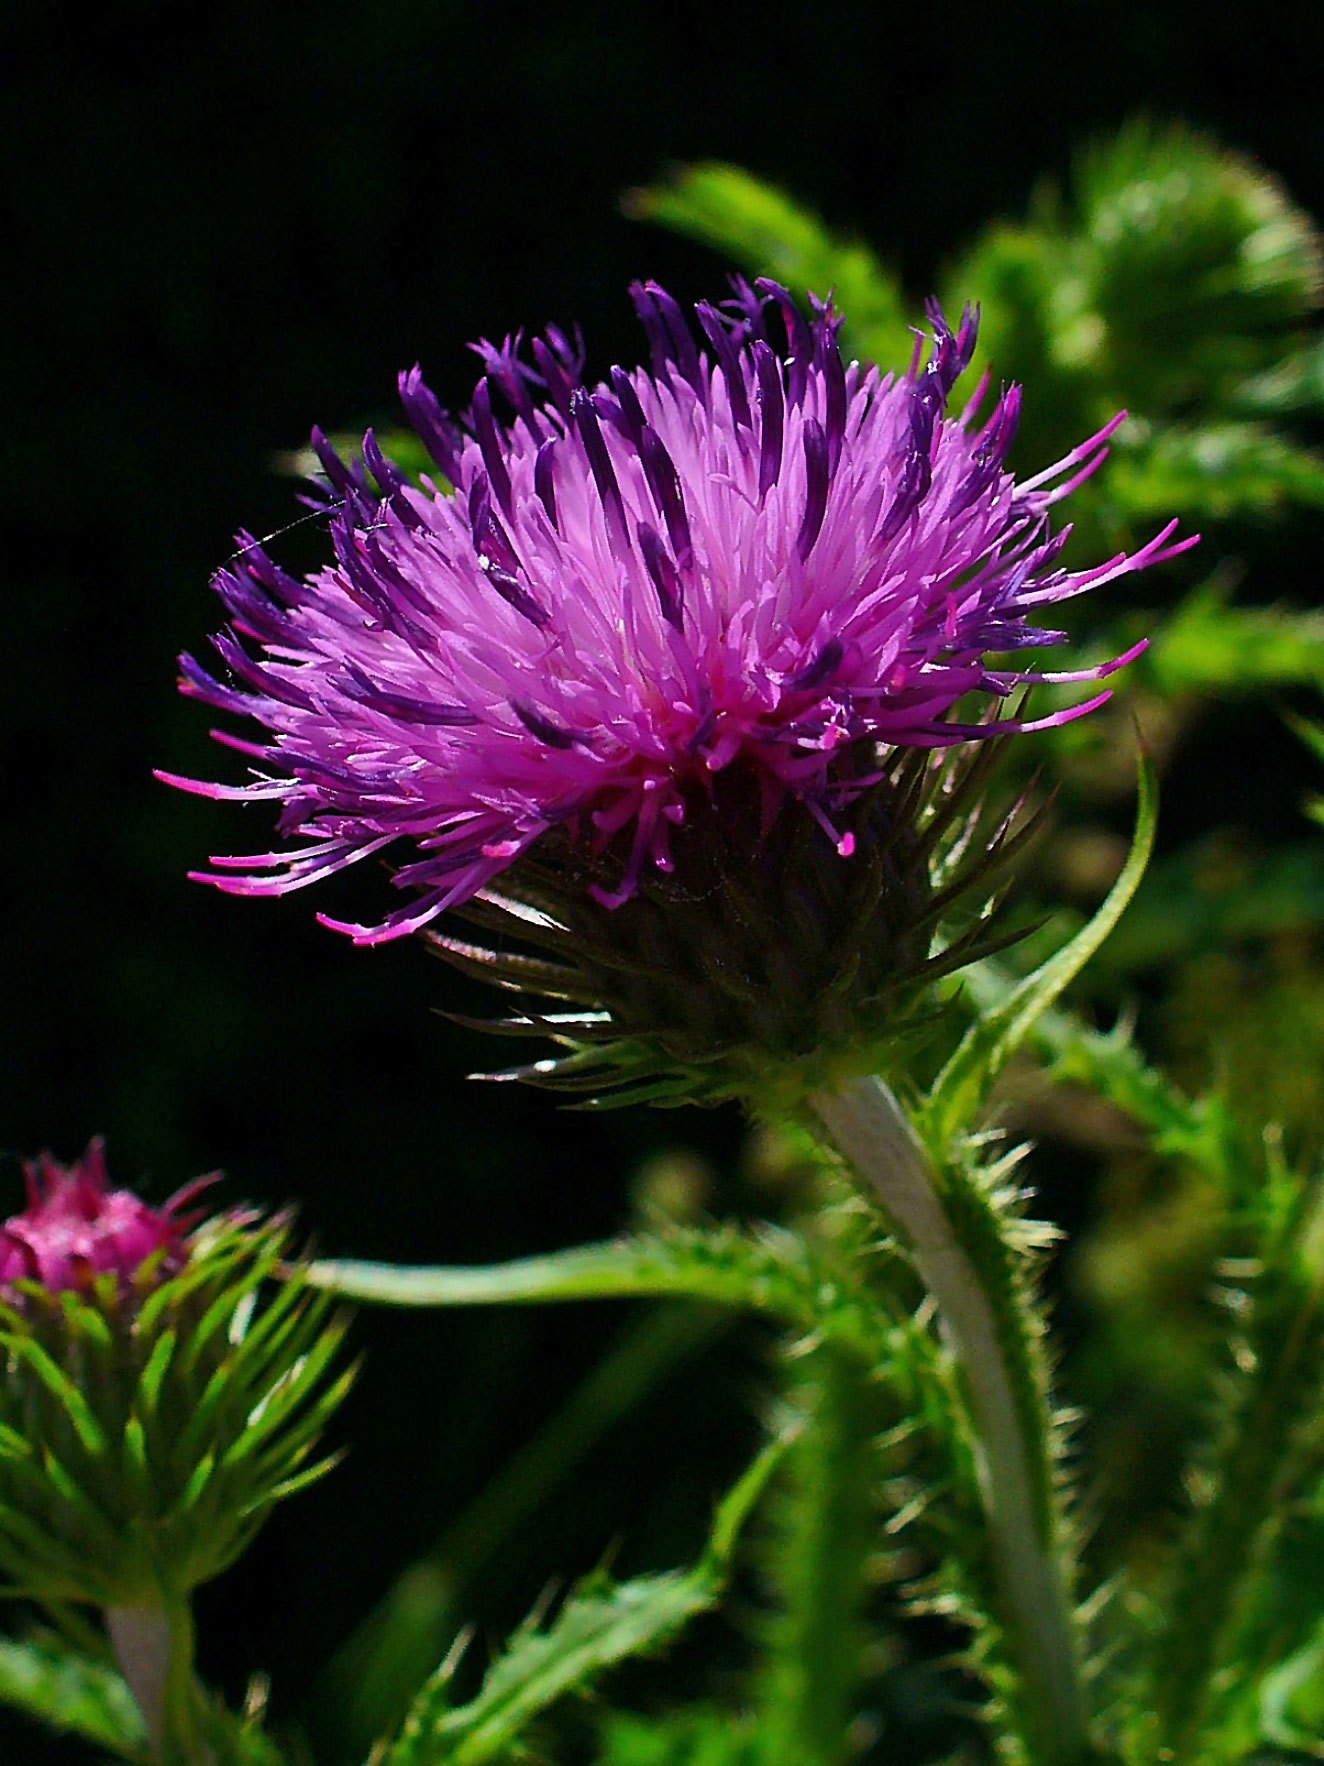thistle: (177, 291, 1121, 1131), (11, 1174, 348, 1602)
